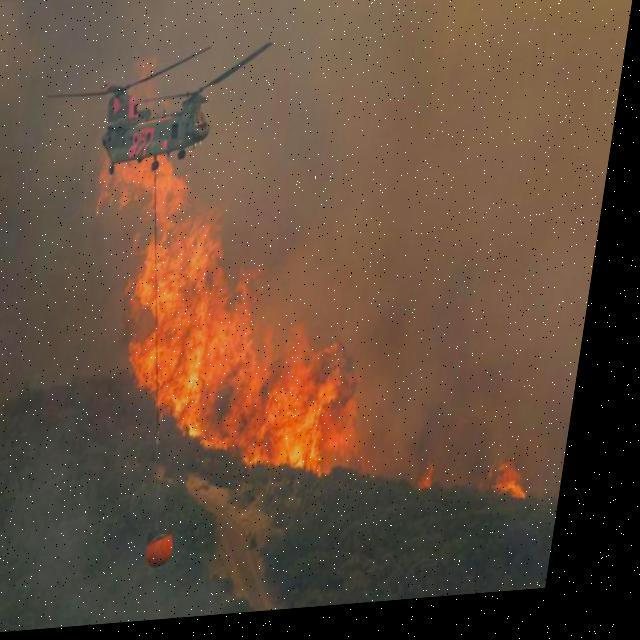Fire: (61, 136, 420, 510), (498, 466, 550, 518), (431, 468, 455, 500)
